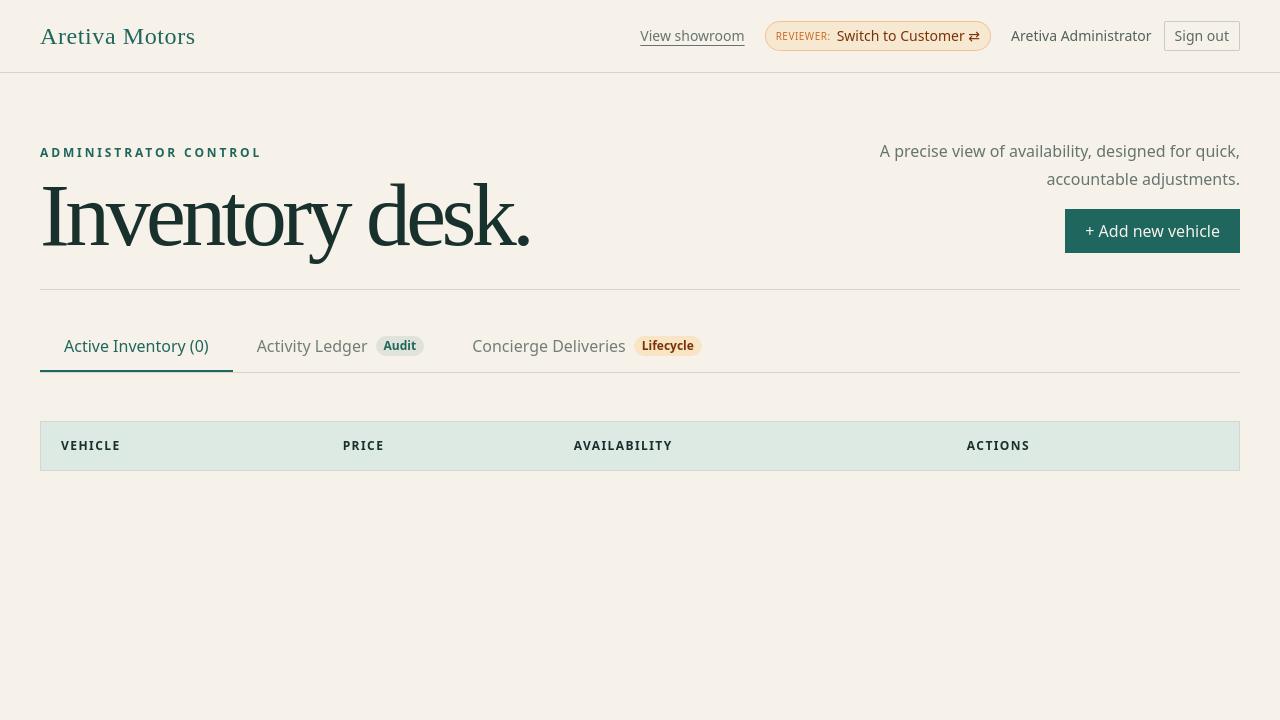
Scenario: administrator inventory desk › switches to the activity ledger tab and displays transaction history
Click the button "Activity Ledger Audit": click(340, 347) [233, 322, 448, 372]
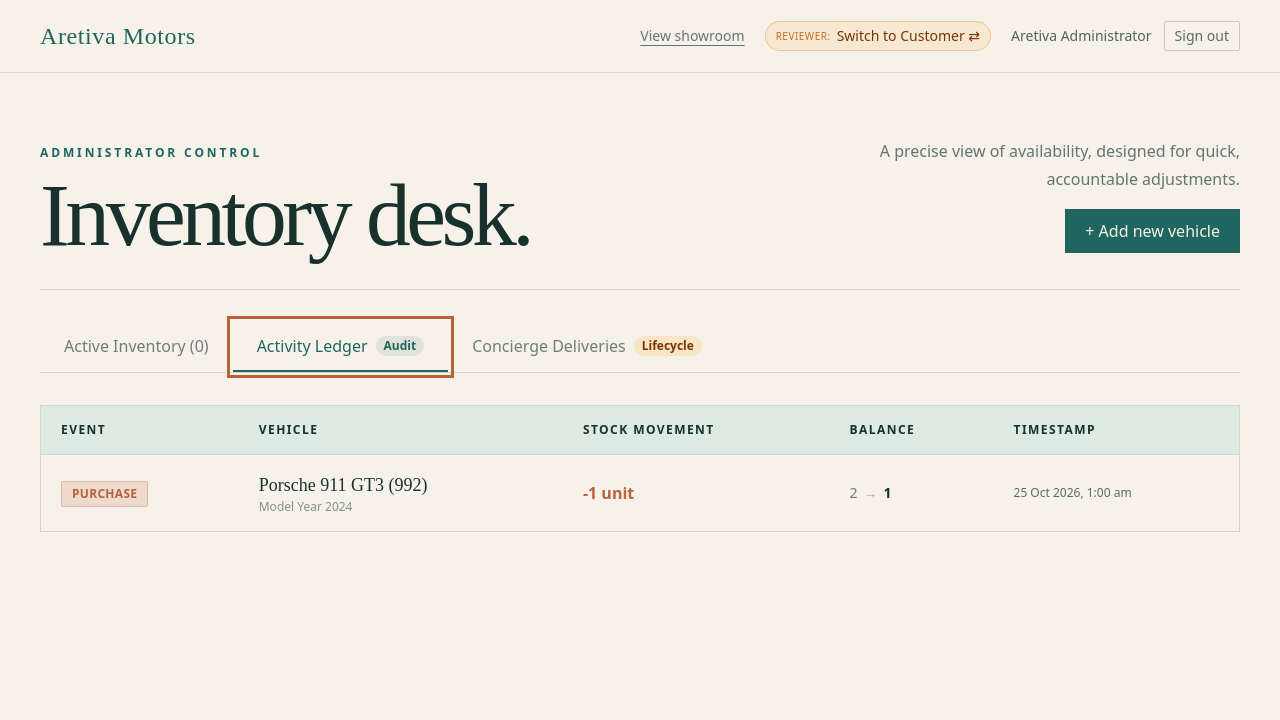
Check: the text "Porsche 911 GT3 (992)" is shown, box [259, 475, 428, 495]
Check: the text "-1 unit" is shown, box [583, 482, 634, 504]
Check: the text "Purchase" is shown, box [61, 480, 148, 506]
